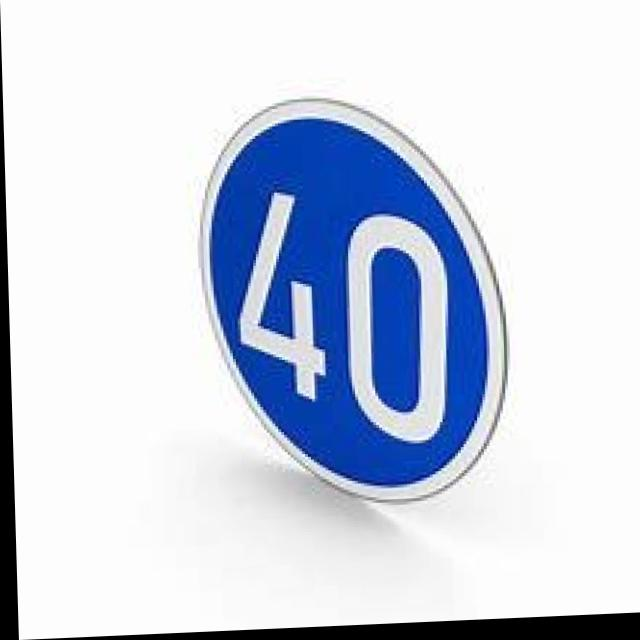COMPULSARY_MINIMUM_SPEED: (200, 93, 507, 518)
